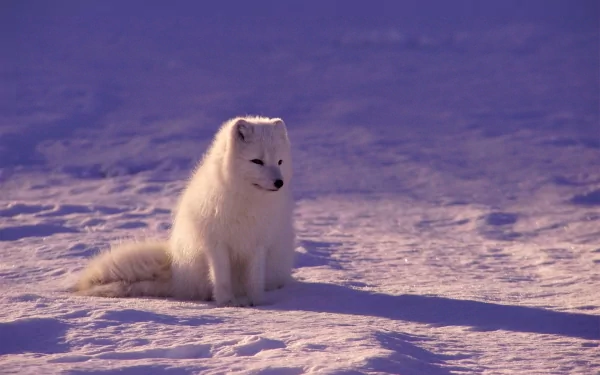arcticfox: (232, 138, 308, 220)
